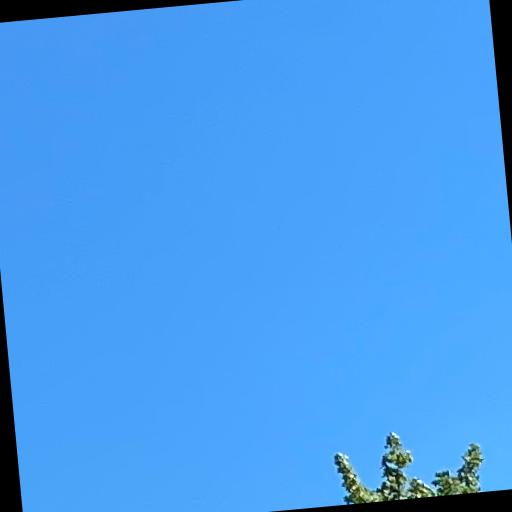tree: (333, 431, 485, 505)
